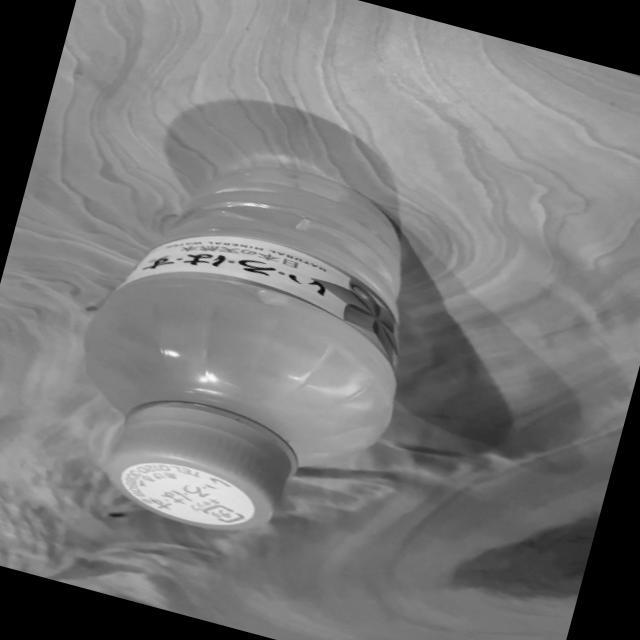good: (40, 122, 448, 568)
